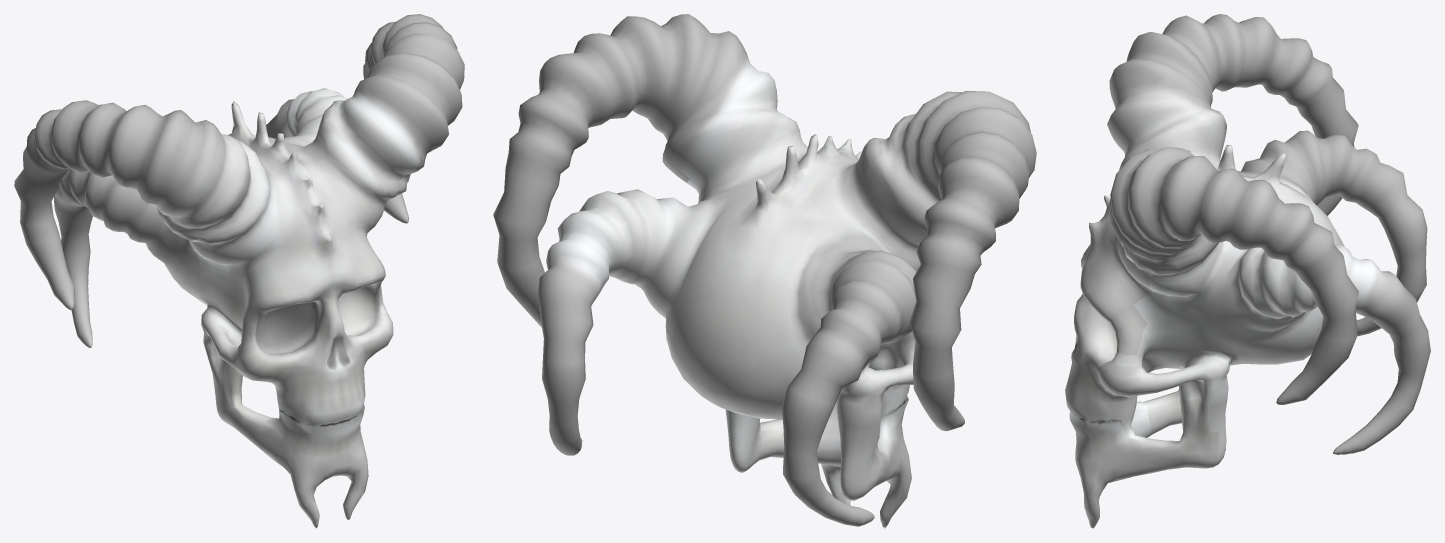
Rendered from skull.glb.
The picture shows the model from 3 angles, left to right: view 1: azimuth 30°, elevation 25°; view 2: azimuth 150°, elevation 25°; view 3: azimuth 270°, elevation 25°; orthographic projection. The views are drawn at different scales.
Visible parts, largest first — view 1: Object_2; view 2: Object_2; view 3: Object_2.
Part boxes in pixels (bbox=[...]): Object_2: bbox=[14, 14, 464, 528]; Object_2: bbox=[493, 14, 1036, 528]; Object_2: bbox=[1065, 14, 1430, 528].
Size of the model in its own units: 46.01 by 46.86 by 35.95.
Materials: 1 (1 with a texture image).
